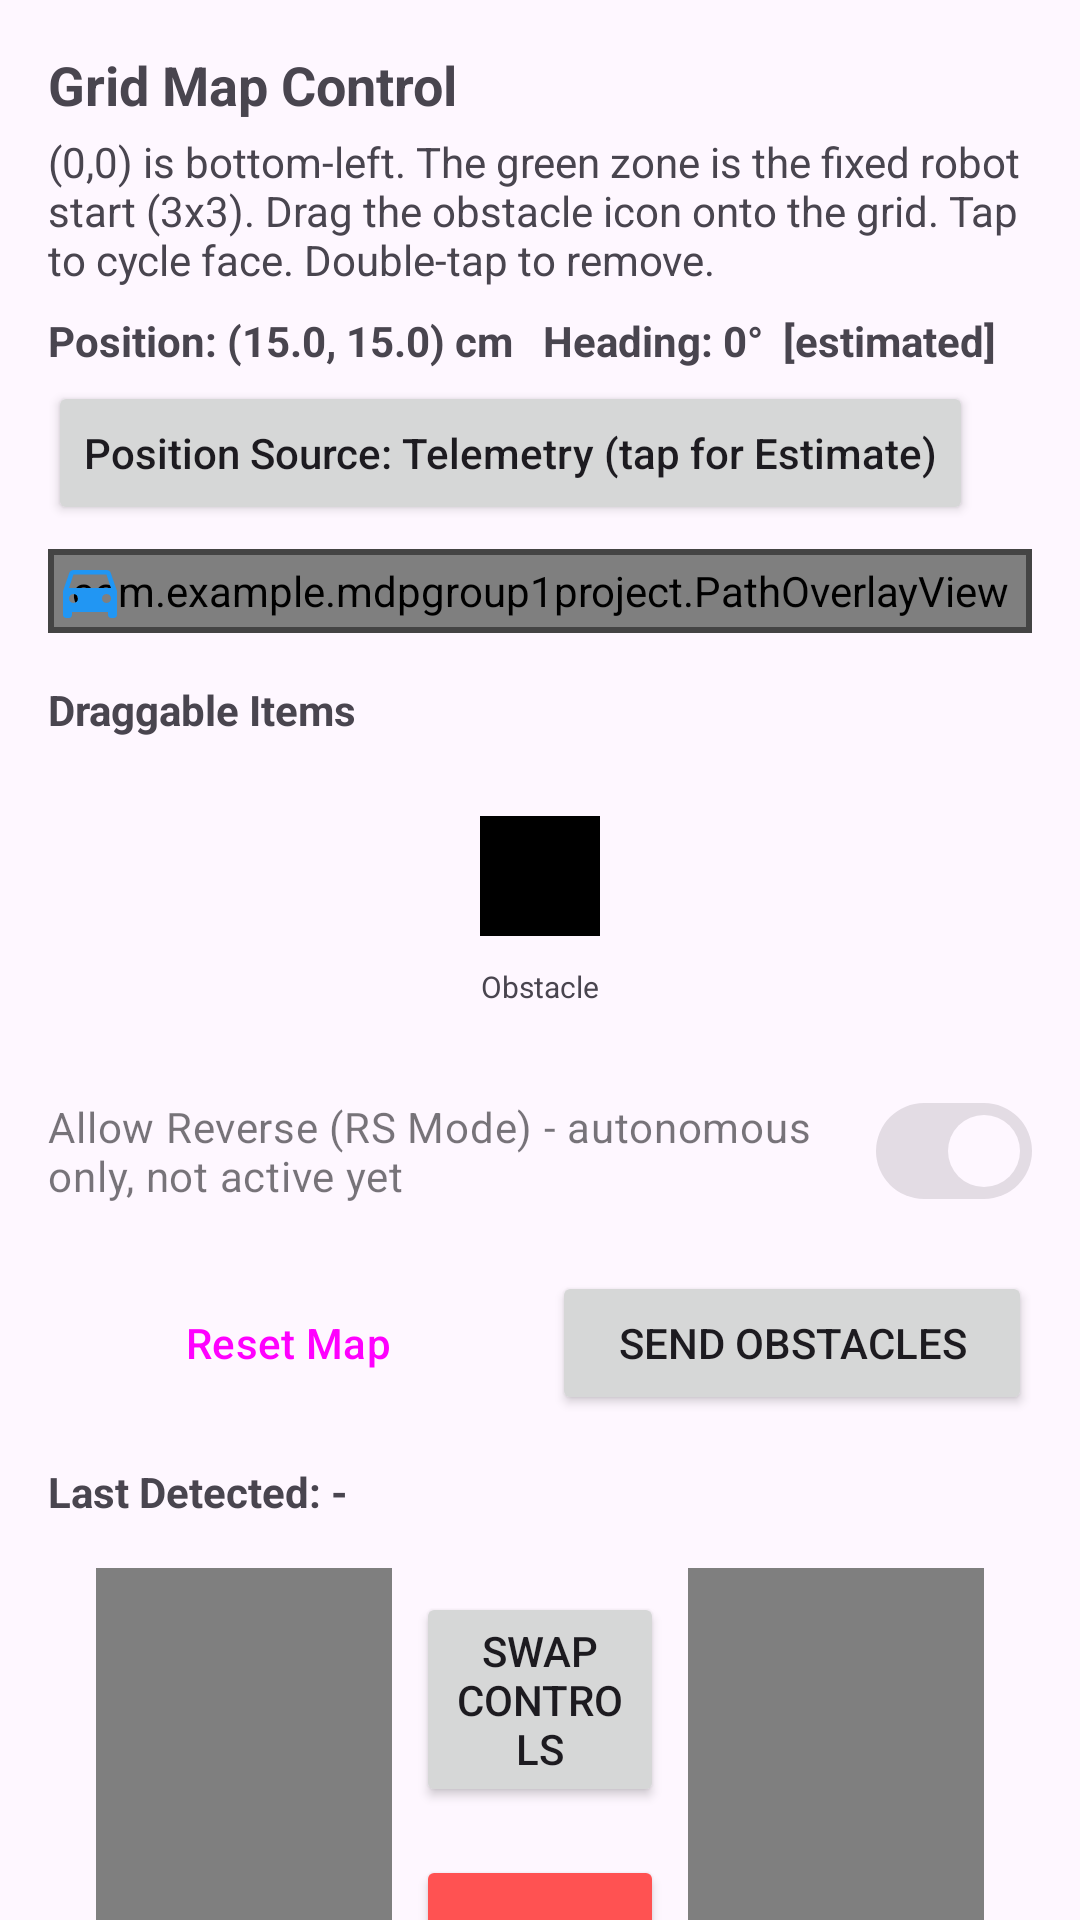

Point at icon controls on the screen. Image size 1080px x 1920px, points as (x=x, y=y).
Car position: (x=90, y=591)
